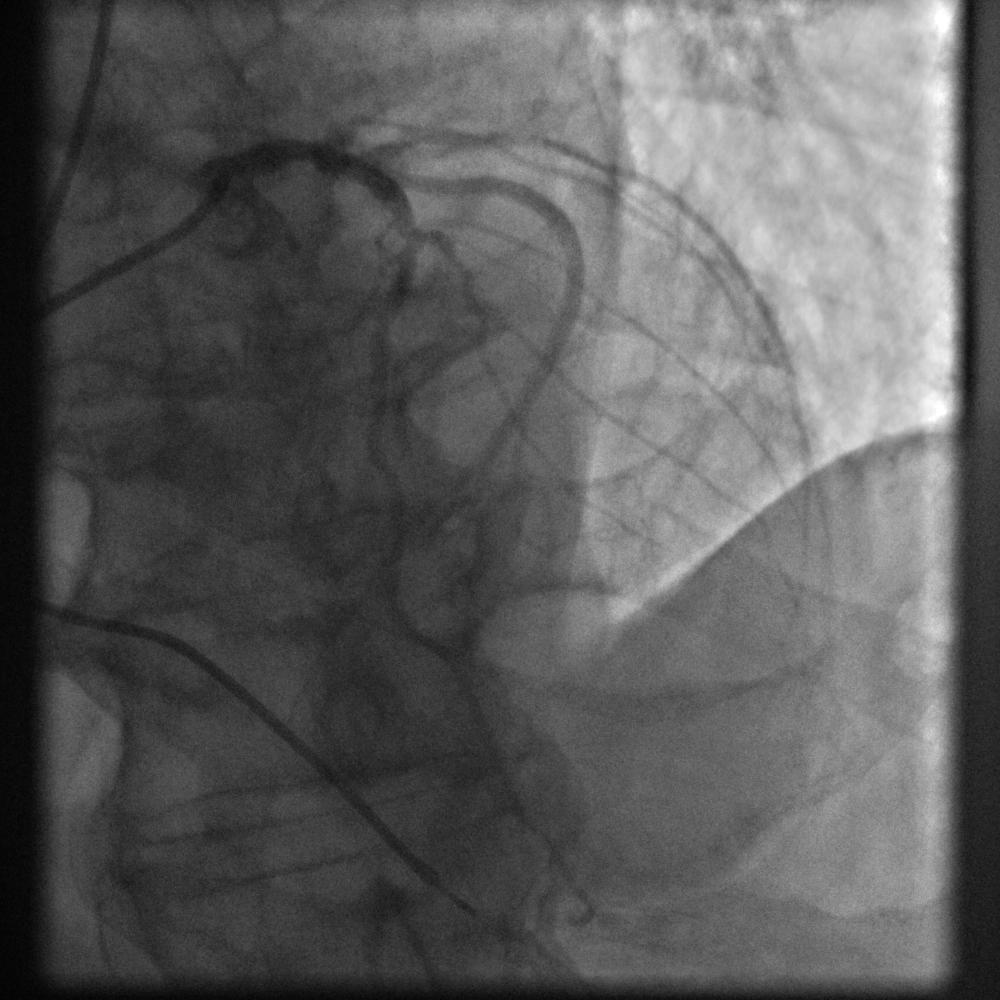Stenosis: (387, 212, 448, 261)
